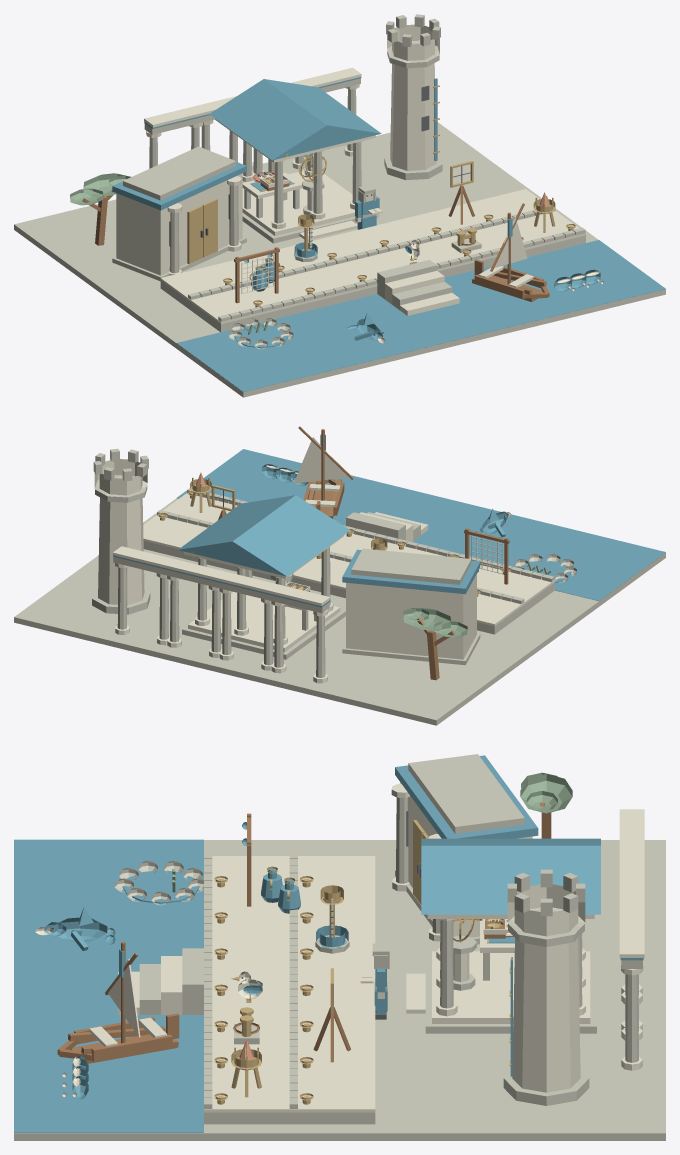
The model's file is tidal-observatory-starter-scene__275.glb.
3 renders of one model, top to bottom at view 1: azimuth 30°, elevation 25°; view 2: azimuth 150°, elevation 25°; view 3: azimuth 270°, elevation 25°, orthographic. The views are drawn at different scales.
Parts seen in each view (by area): view 1: terrain-base, terrain-surface-1, 01-tidal-observatory-star-reading-hall/2, 02-tidal-observatory-archive-pavilion/0, 03-tidal-observatory-tide-watch-tower/1, 02-tidal-observatory-archive-pavilion/1, 01-tidal-observatory-star-reading-hall/1, 01-tidal-observatory-star-reading-hall/0, 03-tidal-observatory-tide-watch-tower/0, 28-tidal-observatory-sail-skiff/0, 18-tidal-observatory-stone-stair/1, 02-tidal-observatory-archive-pavilion/3 (+31 smaller); view 2: terrain-base, terrain-surface-1, 01-tidal-observatory-star-reading-hall/2, 02-tidal-observatory-archive-pavilion/0, 03-tidal-observatory-tide-watch-tower/1, 02-tidal-observatory-archive-pavilion/1, 01-tidal-observatory-star-reading-hall/1, 01-tidal-observatory-star-reading-hall/0, 03-tidal-observatory-tide-watch-tower/0, 02-tidal-observatory-archive-pavilion/2, 19-tidal-observatory-colonnade/1, 28-tidal-observatory-sail-skiff/1 (+27 smaller); view 3: terrain-base, terrain-surface-1, 03-tidal-observatory-tide-watch-tower/1, 01-tidal-observatory-star-reading-hall/2, 02-tidal-observatory-archive-pavilion/1, 01-tidal-observatory-star-reading-hall/1, 03-tidal-observatory-tide-watch-tower/0, 01-tidal-observatory-star-reading-hall/0, 28-tidal-observatory-sail-skiff/0, 16-tidal-observatory-quay-platform/1, 17-tidal-observatory-quay-platform/1, 09-tidal-observatory-quay-platform/1 (+33 smaller).
Part boxes in pixels (x1,y1,x2,y2): terrain-base: (14, 122, 665, 397); terrain-surface-1: (176, 240, 665, 391); 01-tidal-observatory-star-reading-hall/2: (209, 79, 381, 160); 02-tidal-observatory-archive-pavilion/0: (116, 173, 242, 275); 03-tidal-observatory-tide-watch-tower/1: (387, 24, 439, 170); 02-tidal-observatory-archive-pavilion/1: (112, 146, 246, 281); 01-tidal-observatory-star-reading-hall/1: (215, 119, 375, 240); 01-tidal-observatory-star-reading-hall/0: (229, 131, 377, 243); 03-tidal-observatory-tide-watch-tower/0: (384, 14, 442, 180); 28-tidal-observatory-sail-skiff/0: (471, 203, 549, 301); 18-tidal-observatory-stone-stair/1: (377, 260, 452, 310); 02-tidal-observatory-archive-pavilion/3: (187, 198, 217, 264); terrain-base: (14, 498, 665, 725); terrain-surface-1: (177, 449, 665, 600); 01-tidal-observatory-star-reading-hall/2: (178, 495, 350, 576); 02-tidal-observatory-archive-pavilion/0: (346, 574, 476, 659); 03-tidal-observatory-tide-watch-tower/1: (94, 459, 147, 605); 02-tidal-observatory-archive-pavilion/1: (342, 548, 480, 665); 01-tidal-observatory-star-reading-hall/1: (184, 535, 344, 652); 01-tidal-observatory-star-reading-hall/0: (182, 547, 345, 659); 03-tidal-observatory-tide-watch-tower/0: (92, 448, 150, 614); 02-tidal-observatory-archive-pavilion/2: (342, 549, 480, 594); 19-tidal-observatory-colonnade/1: (270, 595, 329, 677); 28-tidal-observatory-sail-skiff/1: (293, 437, 348, 507); terrain-base: (14, 840, 665, 1140); terrain-surface-1: (14, 839, 203, 1132); 03-tidal-observatory-tide-watch-tower/1: (507, 884, 585, 1092); 01-tidal-observatory-star-reading-hall/2: (421, 838, 600, 914); 02-tidal-observatory-archive-pavilion/1: (395, 754, 524, 944); 01-tidal-observatory-star-reading-hall/1: (406, 914, 594, 1023); 03-tidal-observatory-tide-watch-tower/0: (503, 869, 589, 1105); 01-tidal-observatory-star-reading-hall/0: (425, 920, 596, 1033); 28-tidal-observatory-sail-skiff/0: (57, 941, 179, 1063); 16-tidal-observatory-quay-platform/1: (289, 1073, 375, 1112); 17-tidal-observatory-quay-platform/1: (204, 1073, 289, 1112); 09-tidal-observatory-quay-platform/1: (212, 928, 289, 964).
Bounding box in the file's own units: 16.2 × 5.4 × 15.22.
